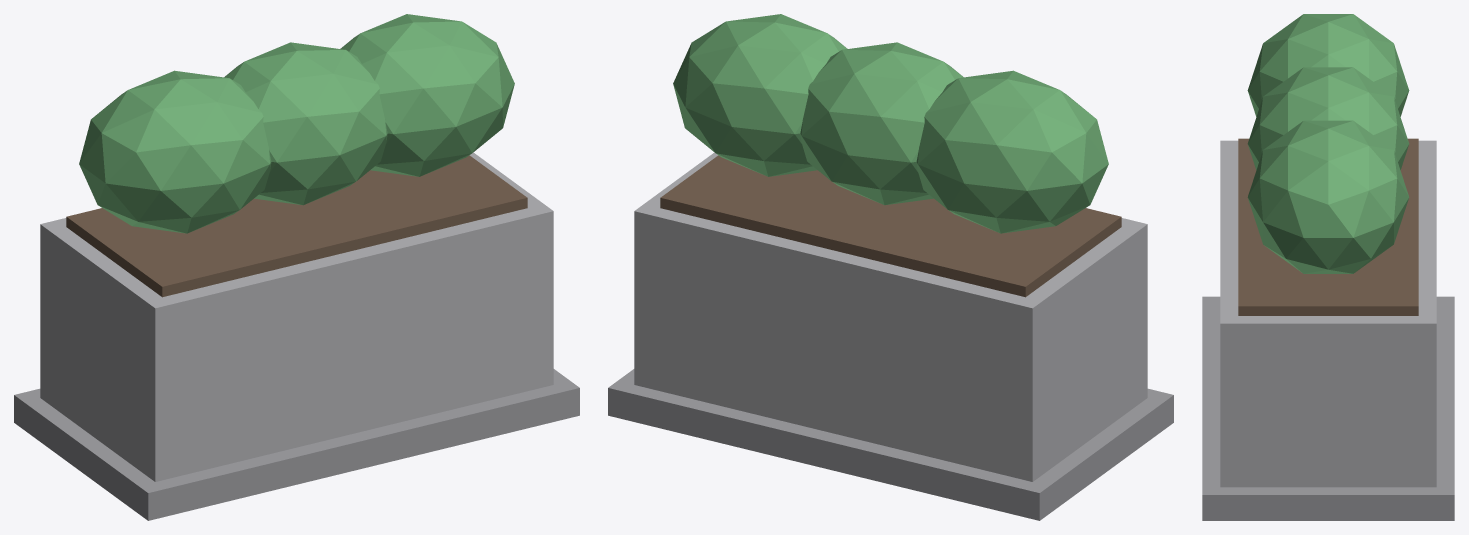
The model's file is bt-planter-box.glb.
3 renders of one model, left to right at view 1: azimuth 30°, elevation 25°; view 2: azimuth 150°, elevation 25°; view 3: azimuth 270°, elevation 25°, orthographic. The views are drawn at different scales.
Visible parts, largest first — view 1: planter, soil, shrub_0, skirt_base, shrub_2, shrub_1; view 2: planter, soil, shrub_0, skirt_base, shrub_2, shrub_1; view 3: planter, shrub_2, skirt_base, soil, shrub_0, shrub_1.
Part boxes in pixels (x1,y1,x2,y2): planter: (40, 152, 553, 481); soil: (66, 155, 527, 297); shrub_0: (79, 70, 271, 233); skirt_base: (14, 369, 579, 520); shrub_2: (340, 14, 514, 176); shrub_1: (224, 42, 387, 205); planter: (634, 152, 1147, 481); soil: (660, 155, 1121, 297); shrub_0: (916, 70, 1108, 233); skirt_base: (608, 369, 1173, 520); shrub_2: (673, 14, 847, 176); shrub_1: (800, 42, 963, 205); planter: (1220, 140, 1436, 487); shrub_2: (1247, 120, 1409, 273); skirt_base: (1202, 296, 1454, 520); soil: (1238, 138, 1418, 315); shrub_0: (1247, 14, 1409, 116); shrub_1: (1247, 67, 1409, 169).
Size of the model in its own units: 1.3 by 1.06 by 0.7.
